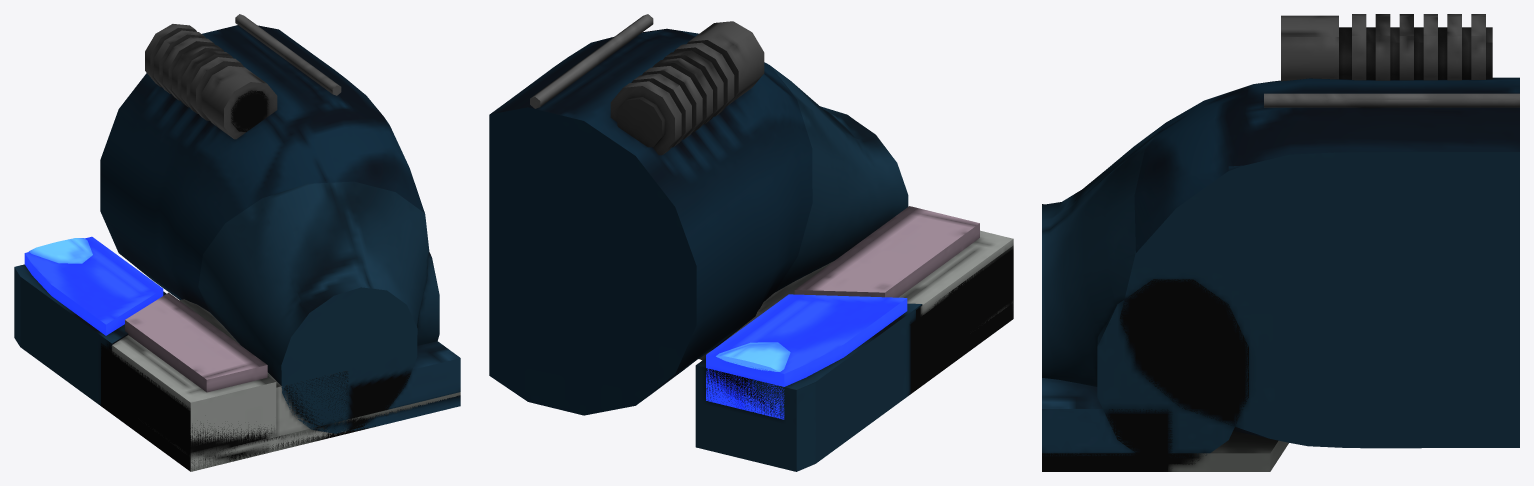
File: newshb-79.glb
3 renders of one model, left to right at view 1: azimuth 30°, elevation 25°; view 2: azimuth 150°, elevation 25°; view 3: azimuth 270°, elevation 25°, orthographic. The views are drawn at different scales.
Parts seen in each view (by area): view 1: newshb-79; view 2: newshb-79; view 3: newshb-79.
Part boxes in pixels (x1=…): newshb-79: x1=14, y1=14, x2=460, y2=471; newshb-79: x1=489, y1=14, x2=1013, y2=471; newshb-79: x1=1042, y1=14, x2=1519, y2=471.
Size of the model in its own units: 2 by 2.04 by 2.33.
11 materials, 11 textured.
